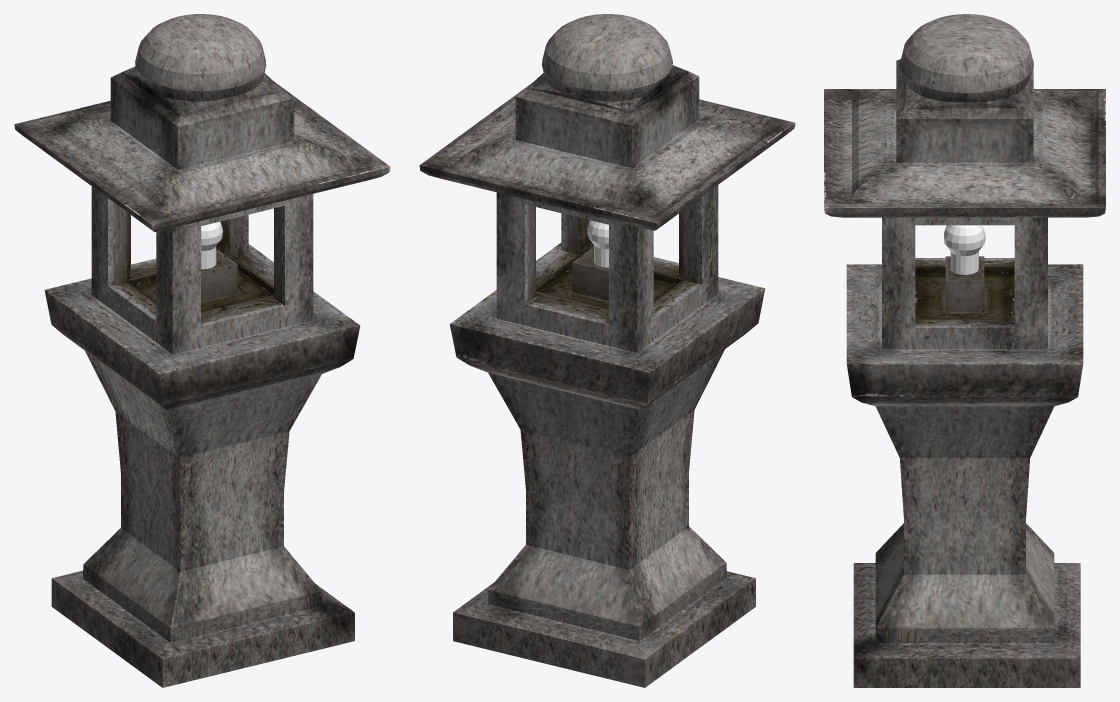
The model's file is Lamp_LR_All1.obj.
3 renders of one model, left to right at view 1: azimuth 30°, elevation 25°; view 2: azimuth 150°, elevation 25°; view 3: azimuth 270°, elevation 25°, orthographic. The views are drawn at different scales.
Parts seen in each view (by area): view 1: lamp_LR001, lamp_LR2, lightbulb; view 2: lamp_LR2, lamp_LR001, lightbulb; view 3: lamp_LR001, lamp_LR2, lightbulb.
Part boxes in pixels (x1,y1,x2,y2): lamp_LR001: [14, 14, 390, 687]; lamp_LR2: [15, 23, 390, 687]; lightbulb: [201, 221, 222, 269]; lamp_LR2: [425, 14, 795, 687]; lamp_LR001: [419, 14, 795, 687]; lightbulb: [587, 220, 608, 267]; lamp_LR001: [824, 14, 1105, 687]; lamp_LR2: [824, 14, 1105, 687]; lightbulb: [944, 225, 985, 274].
Bounding box in the file's own units: 5.29 × 12.67 × 5.29.
